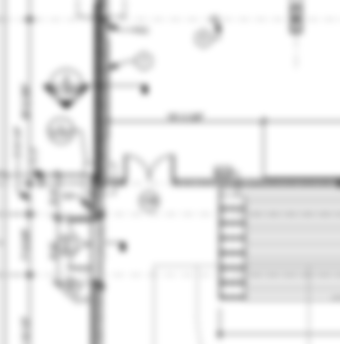double door: (122, 152, 179, 182), (67, 217, 99, 270)
